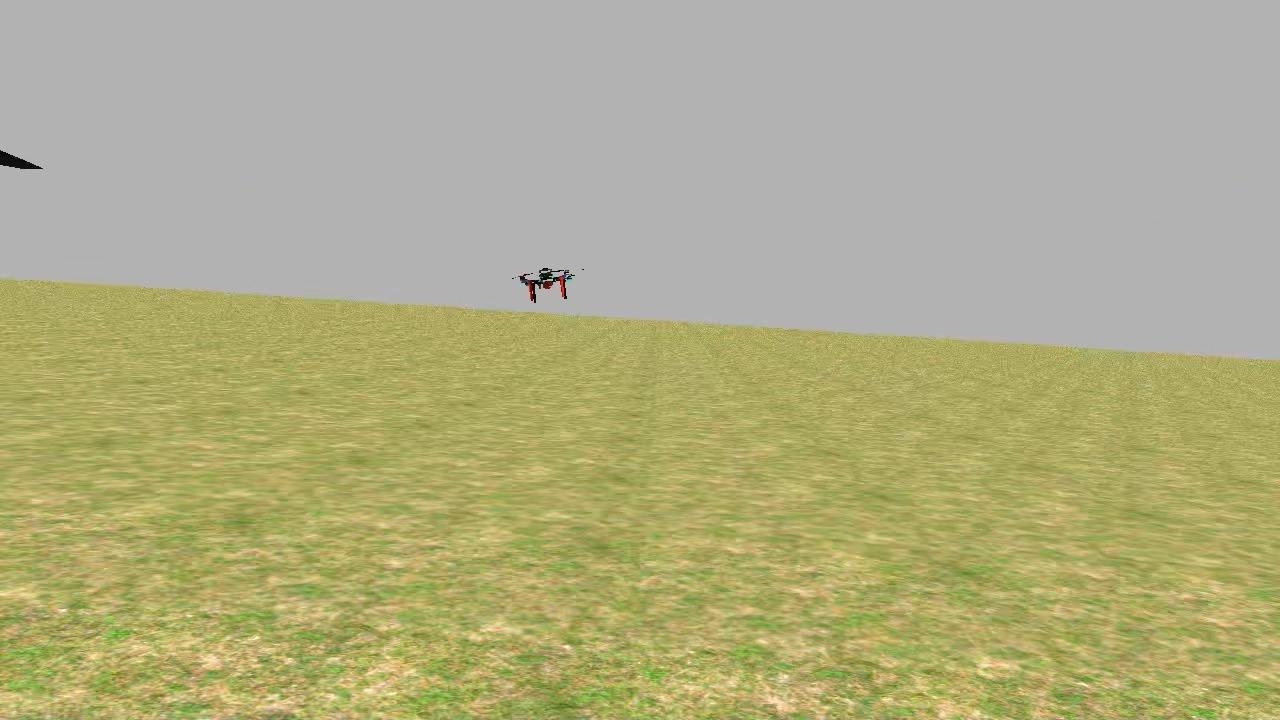UAV: (511, 256, 581, 310)
